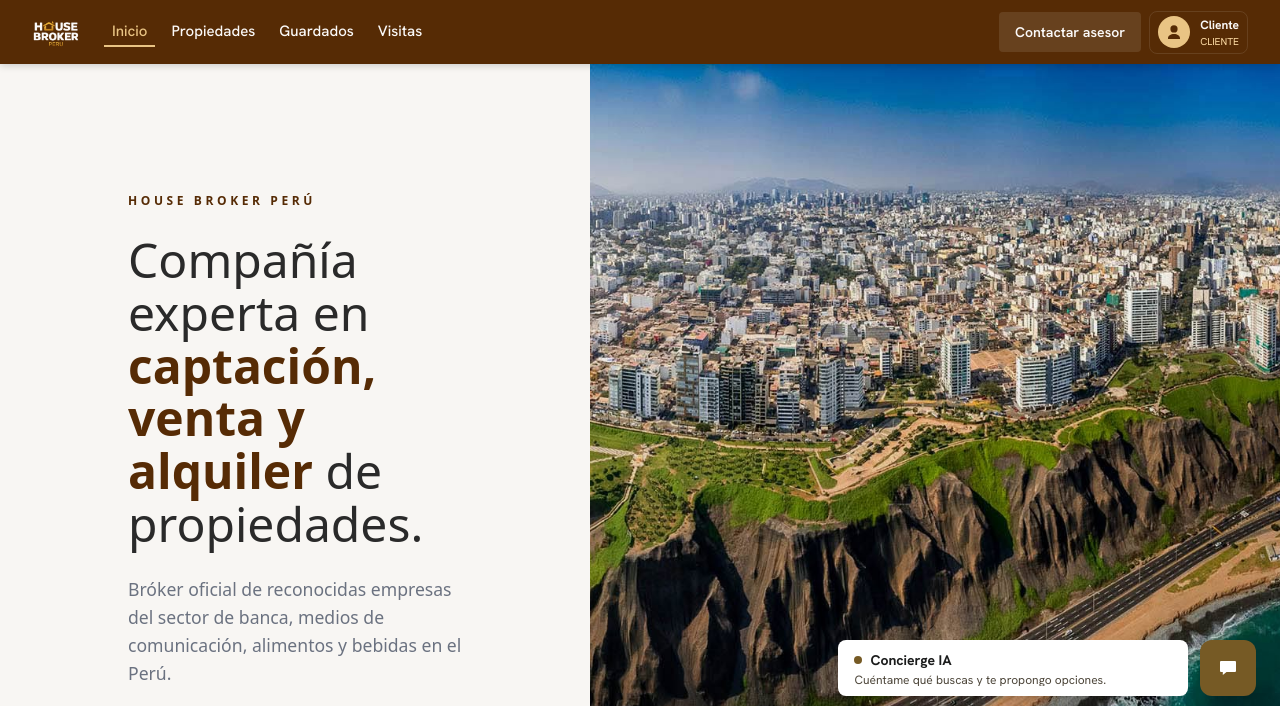
Test case: App: favoritos con MSW (TASK-TEST-PROP-05) › guarda desde el catálogo y el inmueble aparece en "Mis guardados"
Click the button "Propiedades". click: point(213, 32)
box: [164,17,263,47]
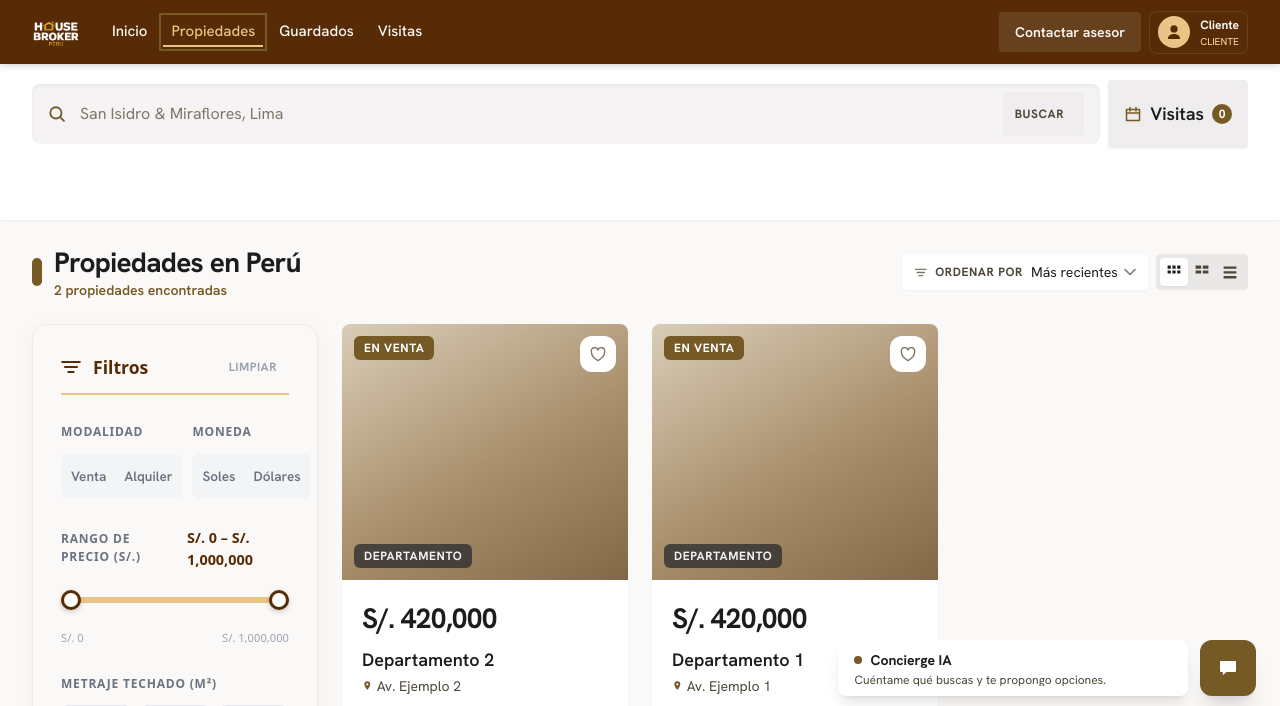
Click the button named "Guardar Departamento 1". click: point(908, 354)
box: [890,336,926,372]
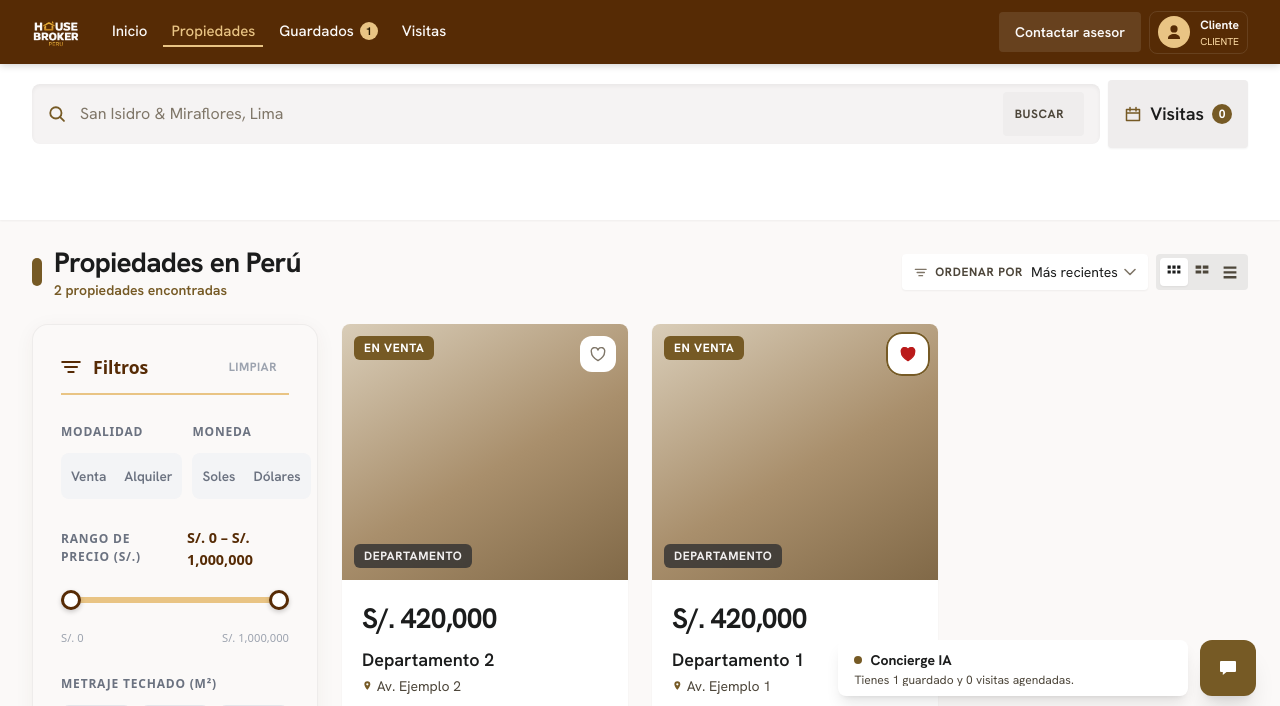
Result: the button named "Guardar Departamento 1" is pressed at [890,336,926,372]
Click the button "Guardados 1". click: point(329, 32)
box: [271,17,386,47]
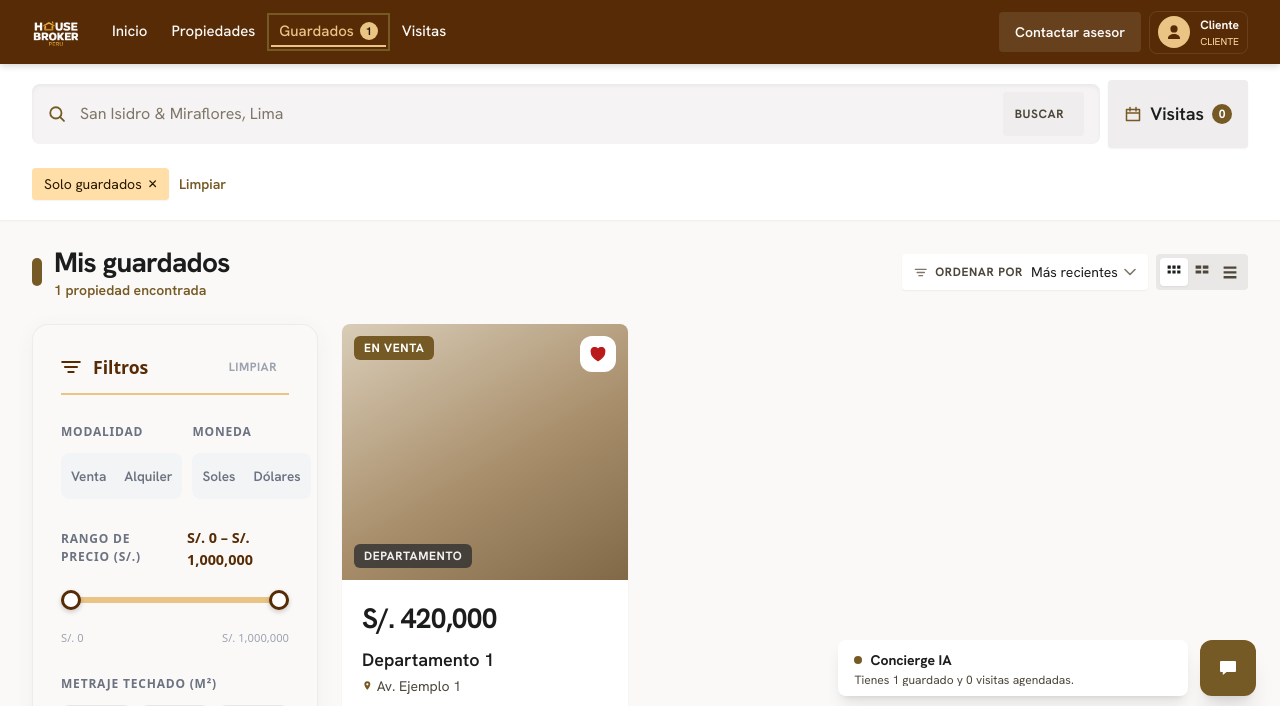
Result: the heading "Departamento 1" is shown at [362,648,494,672]
Result: the heading "Mis guardados" is shown at [54,244,230,280]
